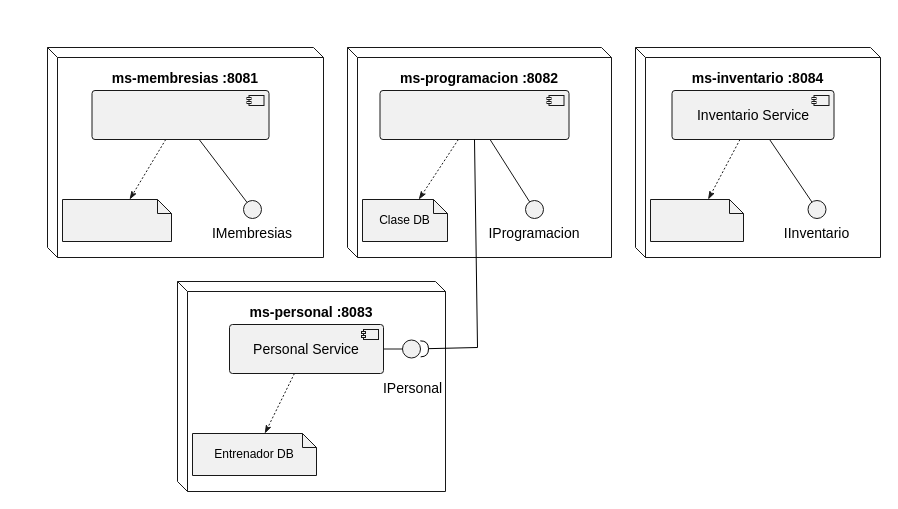
This 898x509 diagram has some shape labels left out. Each missing label, with the centre of its shape:
Equipo DB: (x=697, y=220)
Membresias Service: (x=180, y=115)
Miembro DB: (x=117, y=220)
Programacion Service: (x=474, y=115)
